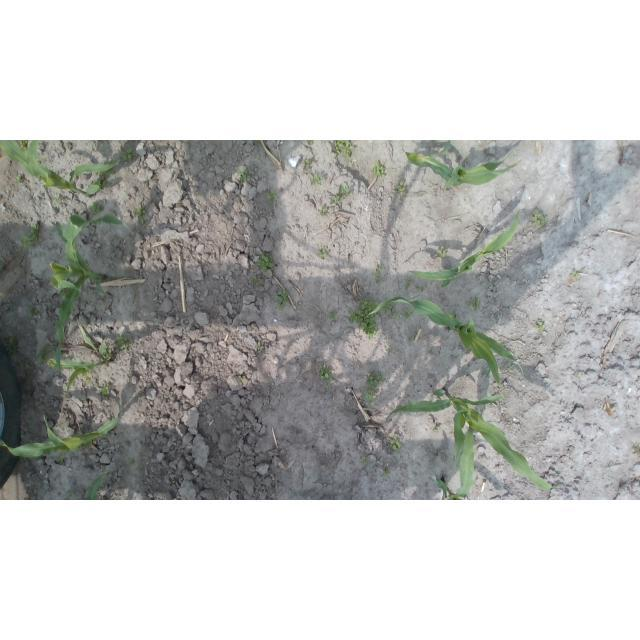Maize: (386, 387, 560, 498), (368, 297, 525, 390), (48, 211, 132, 346), (407, 216, 519, 288), (1, 140, 120, 196), (400, 144, 522, 191), (0, 414, 120, 458), (49, 318, 111, 391), (432, 473, 463, 500), (85, 470, 109, 500), (430, 140, 454, 157)
Weeds: (349, 299, 380, 341), (21, 223, 40, 250), (91, 168, 115, 189), (332, 140, 355, 161), (529, 208, 549, 228), (37, 344, 56, 365), (256, 252, 274, 272), (319, 364, 333, 388), (274, 290, 290, 311), (116, 332, 133, 349), (389, 433, 403, 453), (136, 204, 148, 227), (367, 372, 383, 389), (4, 336, 17, 356), (383, 303, 400, 318), (371, 160, 385, 178), (87, 201, 103, 215), (120, 148, 132, 164), (364, 389, 376, 404), (395, 181, 407, 196), (400, 307, 414, 319), (266, 189, 277, 204), (466, 298, 481, 309), (56, 452, 71, 463), (303, 158, 315, 171), (436, 246, 449, 258), (319, 246, 330, 260), (101, 383, 111, 397), (67, 488, 78, 500), (339, 184, 349, 197), (311, 174, 324, 184), (568, 270, 581, 280), (328, 311, 340, 321), (373, 264, 383, 276), (248, 276, 260, 286), (239, 171, 252, 180), (51, 194, 62, 204), (536, 320, 545, 332), (28, 308, 39, 317), (332, 193, 341, 204), (105, 350, 114, 360), (483, 367, 492, 377), (15, 173, 23, 184), (363, 456, 370, 468), (128, 457, 137, 466), (382, 468, 391, 477), (256, 343, 264, 353), (404, 279, 412, 289), (320, 207, 328, 216), (236, 375, 243, 385), (39, 155, 47, 163), (504, 365, 513, 372), (376, 278, 384, 285), (19, 141, 25, 150), (387, 347, 393, 355), (57, 423, 64, 429), (4, 324, 9, 332), (433, 426, 440, 431), (420, 286, 425, 292), (434, 140, 441, 144), (576, 374, 581, 379), (307, 140, 313, 144)
